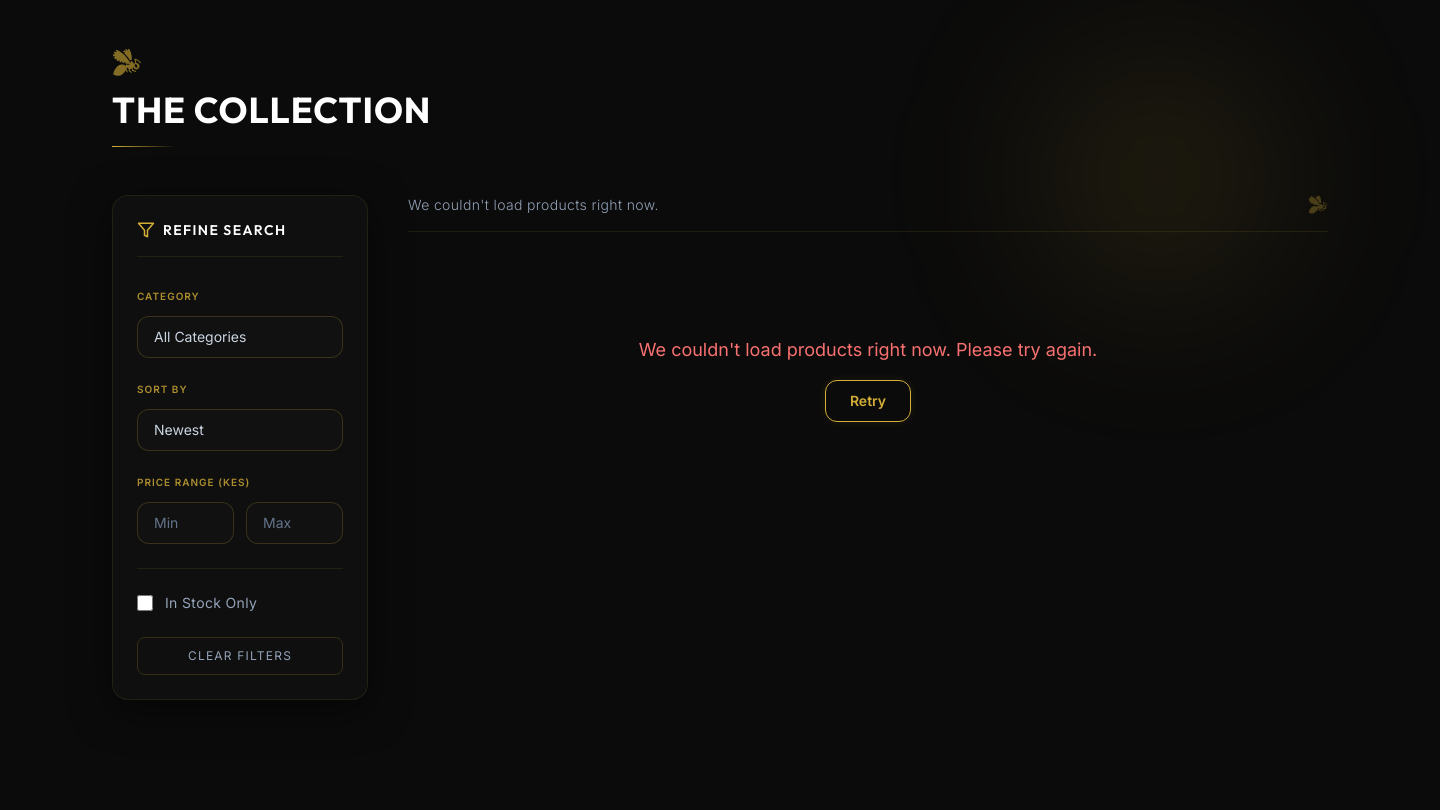
it: Shop search › retries loading after a query failure
Expected: the text "We couldn't load products right now. Please try again." is shown, [639,339,1097,360]
Click the button "Retry". click: (868, 401)
box: [825,380,911,422]
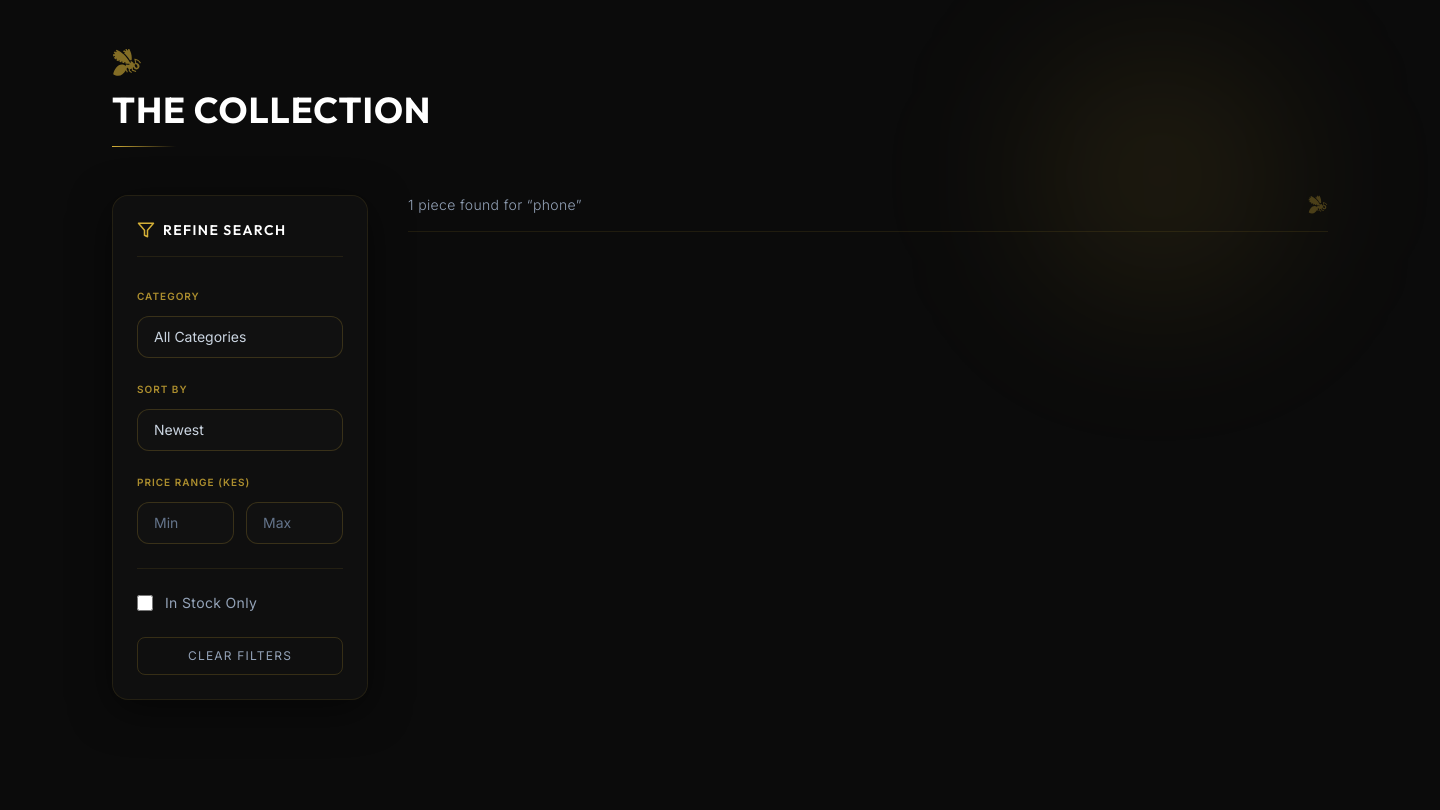
Expected: the text "1 piece found for “phone”" is shown, [408,195,582,215]
